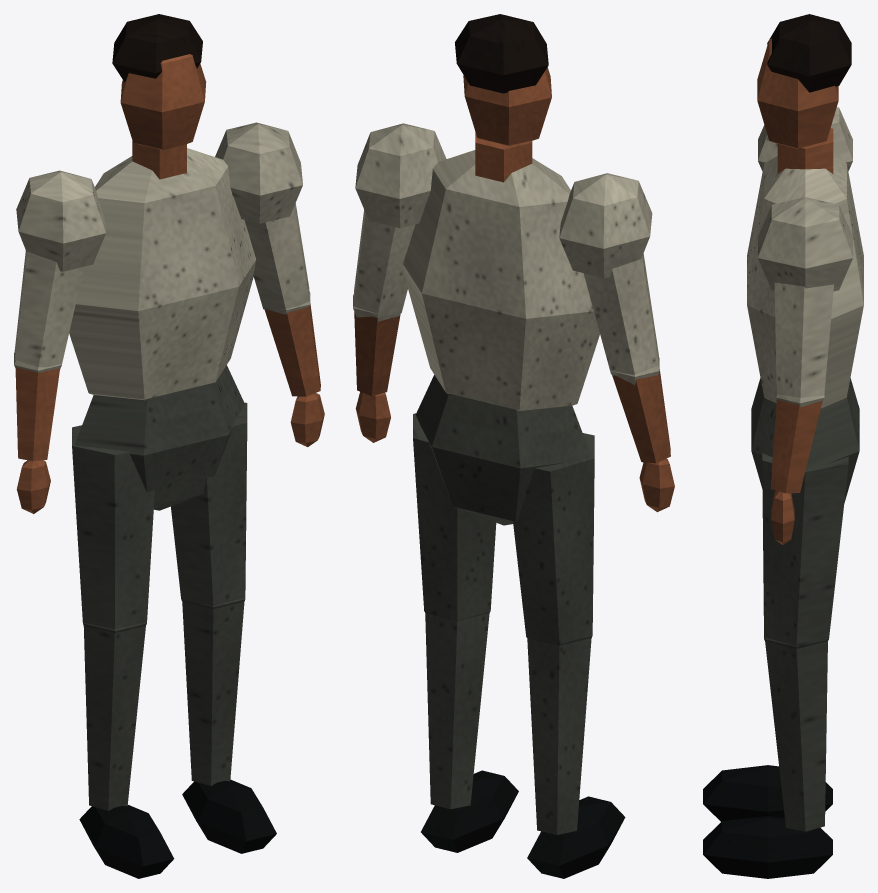
File: PROP-E9FDE33E57FF_lod2.glb
3 views of the same model, side by side, from view 1: azimuth 30°, elevation 25°; view 2: azimuth 150°, elevation 25°; view 3: azimuth 270°, elevation 25° (orthographic). The views are drawn at different scales.
Parts seen in each view (by area): view 1: torso.047, thigh.046, calf.046, shoulder.047, pelvis.046, upper_arm.047, shoe.046, forearm.047, head.046, hair_cap.046, hand.046, neck.046; view 2: torso.047, thigh.046, calf.046, shoulder.047, pelvis.046, upper_arm.047, shoe.046, forearm.047, hair_cap.046, head.046, hand.046, neck.046 (+1 smaller); view 3: thigh.046, torso.047, shoe.046, calf.046, shoulder.047, upper_arm.047, hair_cap.046, head.046, pelvis.046, forearm.047, neck.046, hand.046 (+1 smaller).
Part boxes in pixels (left/top/right/bottom): torso.047: left=69, top=148, right=256, bottom=400; thigh.046: left=72, top=402, right=247, bottom=629; calf.046: left=83, top=602, right=244, bottom=810; shoulder.047: left=16, top=122, right=302, bottom=271; pelvis.046: left=75, top=365, right=244, bottom=510; upper_arm.047: left=14, top=203, right=309, bottom=367; shoe.046: left=79, top=779, right=276, bottom=878; forearm.047: left=15, top=303, right=320, bottom=461; head.046: left=120, top=54, right=206, bottom=150; hair_cap.046: left=112, top=14, right=202, bottom=82; hand.046: left=16, top=393, right=324, bottom=513; neck.046: left=132, top=140, right=186, bottom=179; torso.047: left=403, top=150, right=599, bottom=410; thigh.046: left=413, top=413, right=594, bottom=644; calf.046: left=425, top=613, right=591, bottom=834; shoulder.047: left=355, top=123, right=652, bottom=277; pelvis.046: left=415, top=375, right=591, bottom=525; upper_arm.047: left=353, top=209, right=658, bottom=374; shoe.046: left=421, top=770, right=625, bottom=878; forearm.047: left=354, top=312, right=670, bottom=463; hair_cap.046: left=455, top=14, right=548, bottom=93; head.046: left=463, top=67, right=551, bottom=145; hand.046: left=355, top=391, right=674, bottom=512; neck.046: left=475, top=132, right=532, bottom=182; thigh.046: left=762, top=453, right=848, bottom=645; torso.047: left=747, top=156, right=863, bottom=408; shoe.046: left=703, top=765, right=832, bottom=878; calf.046: left=765, top=641, right=827, bottom=831; shoulder.047: left=758, top=107, right=852, bottom=291; upper_arm.047: left=774, top=282, right=834, bottom=397; hair_cap.046: left=767, top=14, right=851, bottom=92; head.046: left=757, top=38, right=838, bottom=148; pelvis.046: left=751, top=378, right=859, bottom=502; forearm.047: left=771, top=399, right=822, bottom=493; neck.046: left=777, top=128, right=833, bottom=173; hand.046: left=771, top=490, right=794, bottom=544.
Size of the model in its own units: 0.72 by 1.84 by 0.3218.
5 materials, 5 textured.
